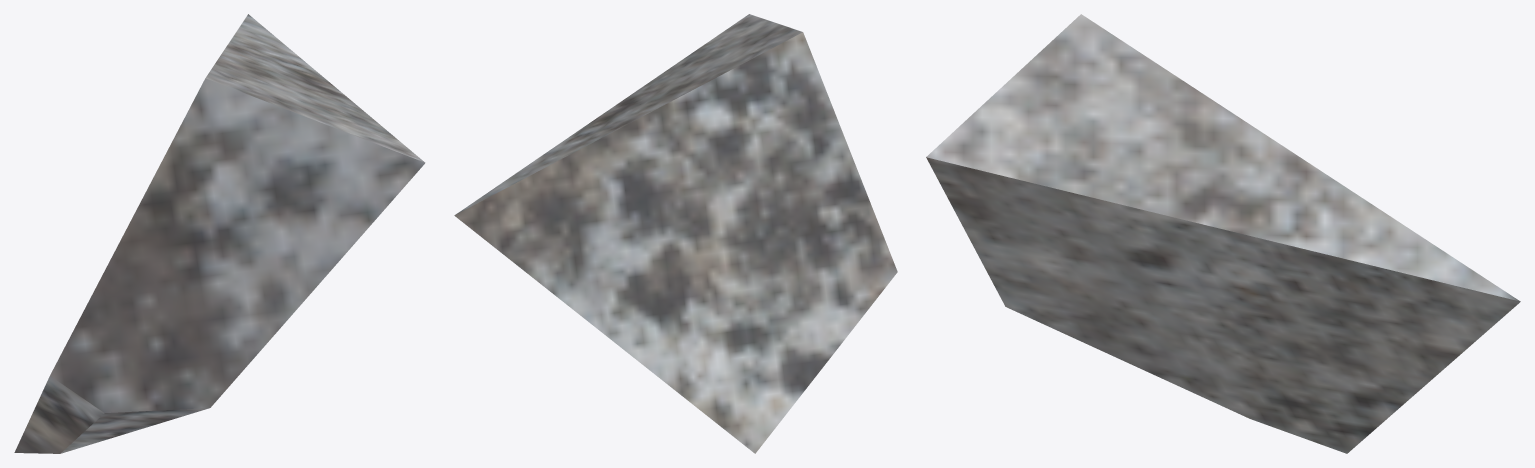
The model's file is Asteroid_Large_001_02_004_03_013.fbx.
The picture shows the model from 3 angles, left to right: view 1: azimuth 30°, elevation 25°; view 2: azimuth 150°, elevation 25°; view 3: azimuth 270°, elevation 25°; orthographic projection. The views are drawn at different scales.
Visible parts, largest first — view 1: Asteroid_Large_001_02_004_03_013; view 2: Asteroid_Large_001_02_004_03_013; view 3: Asteroid_Large_001_02_004_03_013.
Boxes of the visible parts, x1,y1,x2,y2 form: Asteroid_Large_001_02_004_03_013: (14, 14, 425, 453); Asteroid_Large_001_02_004_03_013: (454, 14, 897, 453); Asteroid_Large_001_02_004_03_013: (926, 14, 1520, 453).
Bounding box in the file's own units: 2.5 × 2.74 × 3.13.
